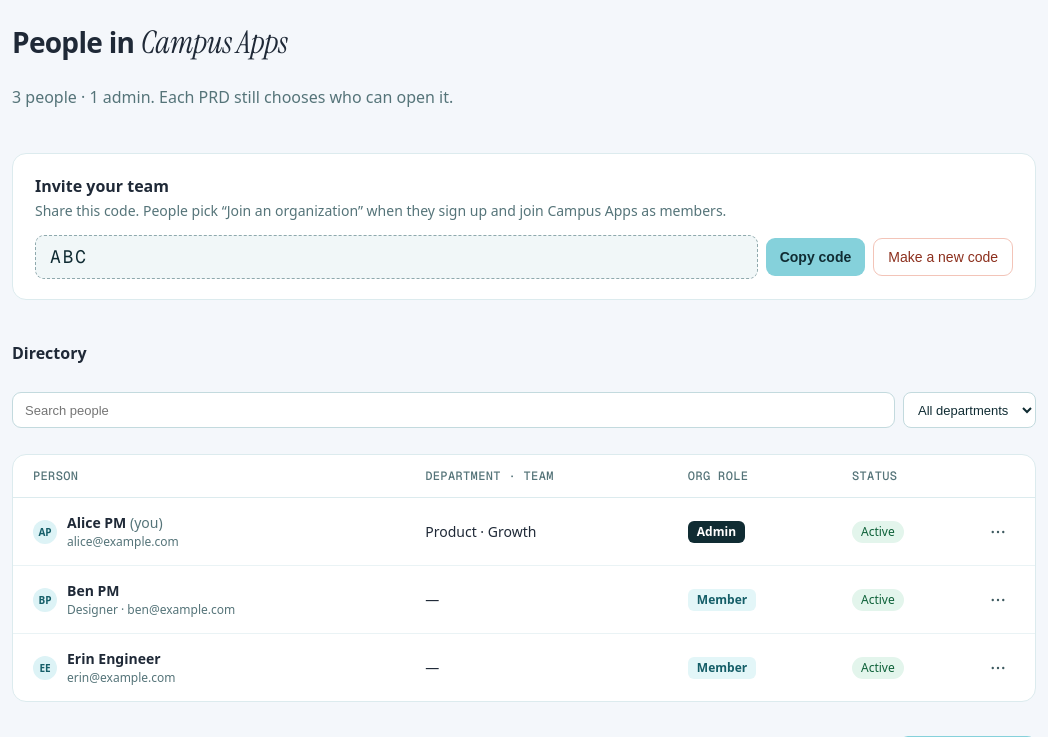
Scenario: PeoplePage directory › doesn't offer deactivating yourself
Click the button named "Actions for Alice PM" at [998, 532], box [981, 515, 1015, 549]
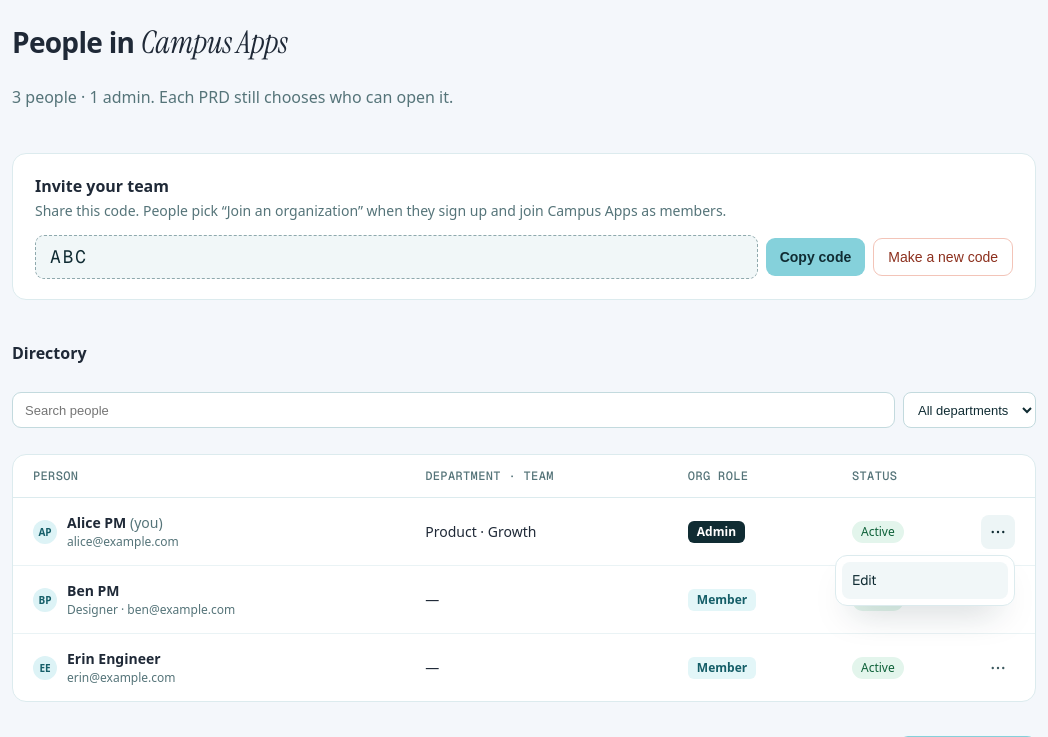
Expected: the menu item "Edit" is shown, [842, 562, 1008, 599]
